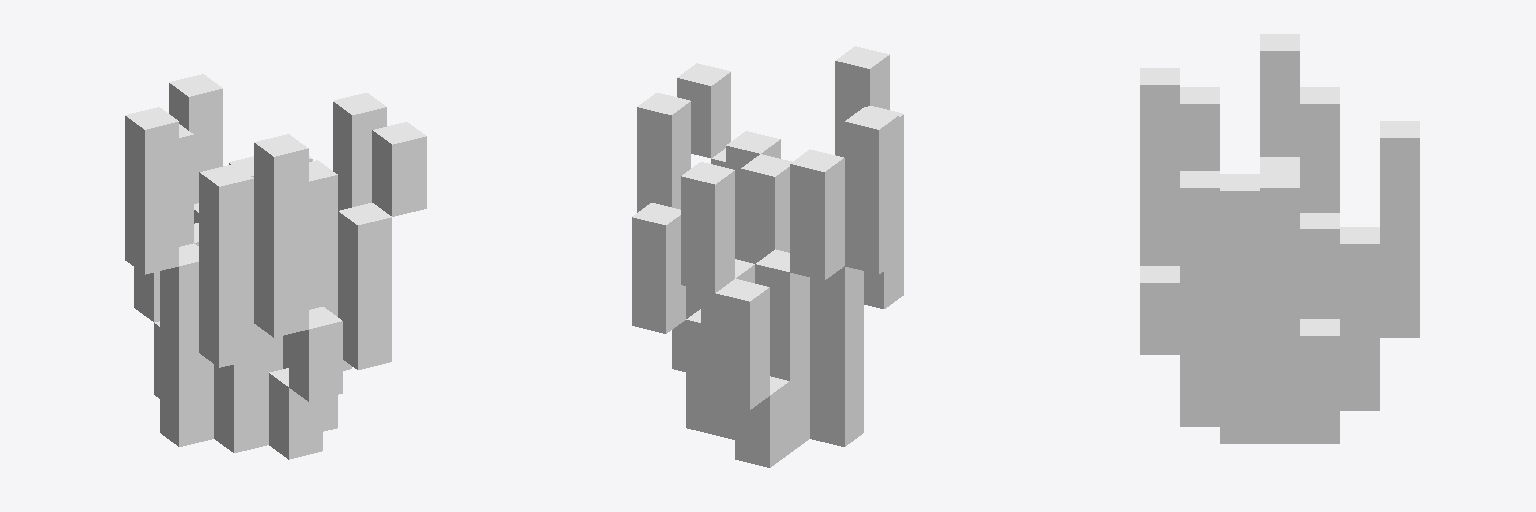
File: CountrySide-6-Vegetation5.obj
3 renders of one model, left to right at view 1: azimuth 30°, elevation 25°; view 2: azimuth 150°, elevation 25°; view 3: azimuth 270°, elevation 25°, orthographic.
Visible parts, largest first — view 1: Vegetation5; view 2: Vegetation5; view 3: Vegetation5.
Boxes of the visible parts, <box> form: Vegetation5: <box>125,74,426,459</box>; Vegetation5: <box>632,46,903,467</box>; Vegetation5: <box>1140,34,1419,443</box>.
Bounding box in the file's own units: 0.7 × 0.9 × 0.7.